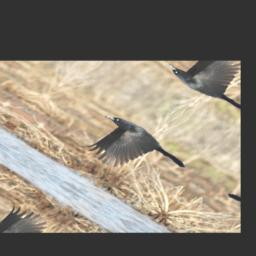Crow: (69, 108, 195, 194)
